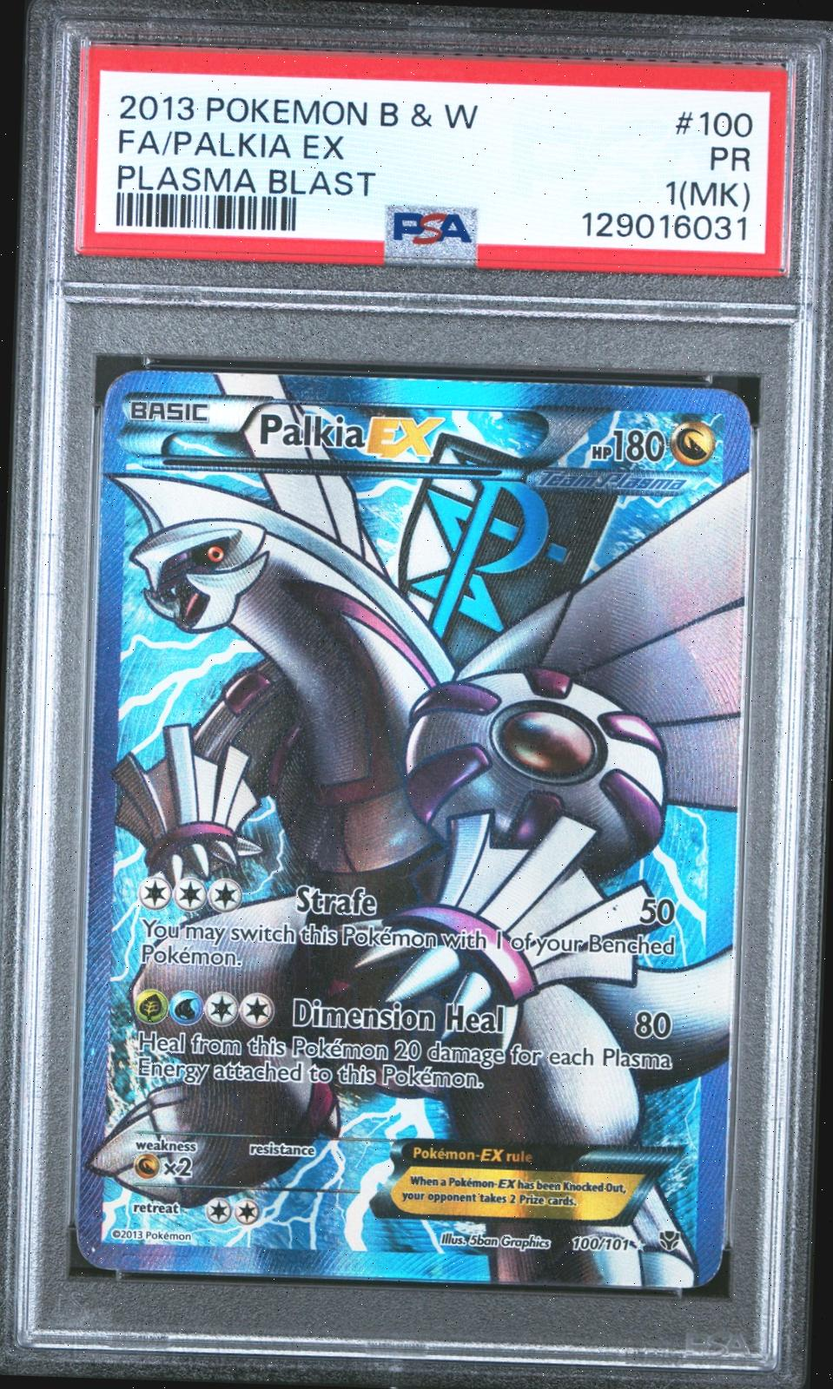card-2UtV: (75, 369, 750, 1289)
